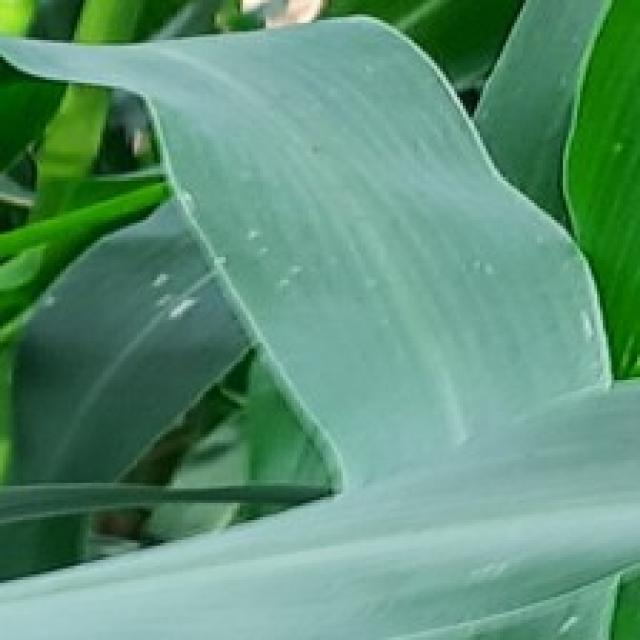Corn: (0, 0, 637, 637), (557, 0, 637, 380)
